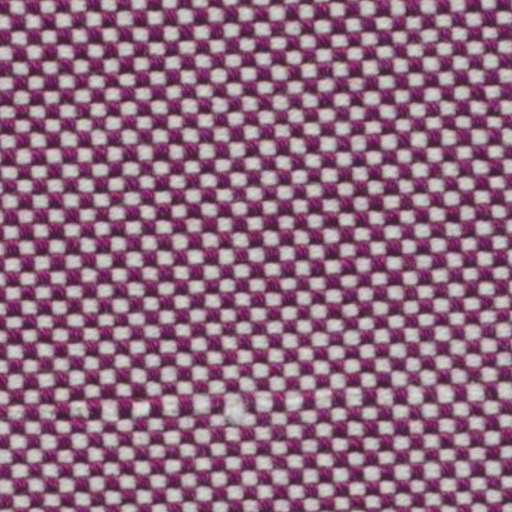DaiSha: (61, 378, 488, 428)
